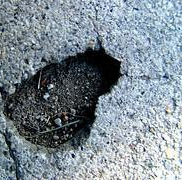Spalling: (2, 37, 122, 151)
